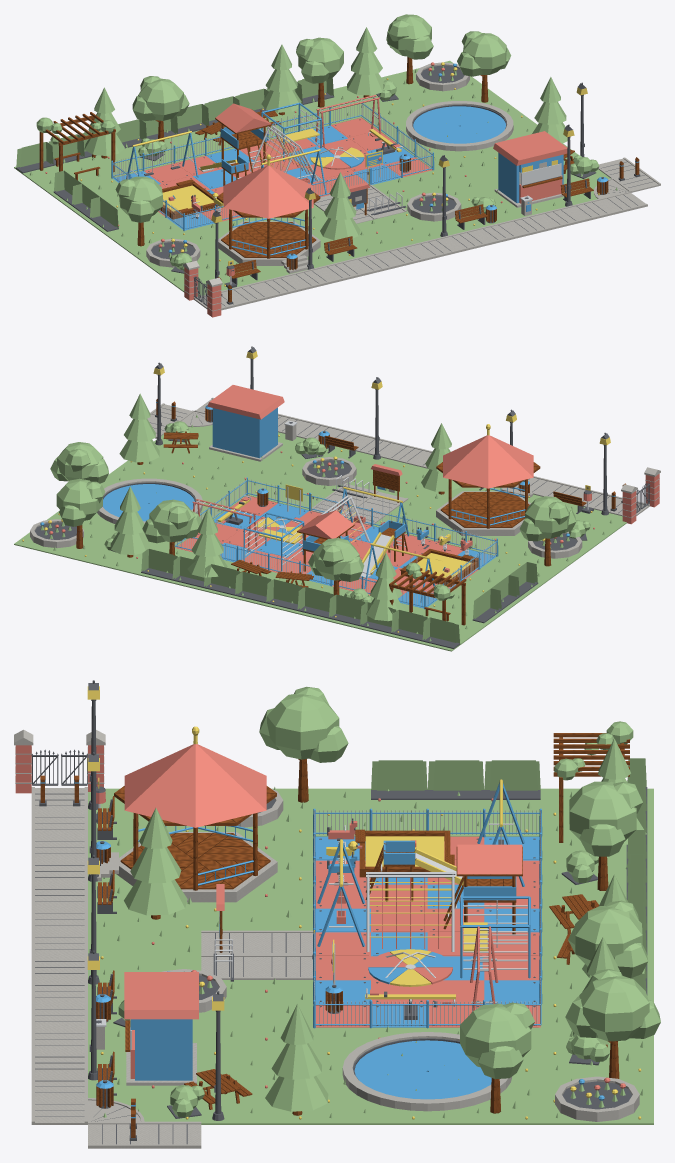
The model's file is 33690-Riverside-Park-and-Playground-City-Park-and-Playground.glb.
3 views of the same model, one above another, from view 1: azimuth 30°, elevation 25°; view 2: azimuth 150°, elevation 25°; view 3: azimuth 270°, elevation 25° (orthographic). The views are drawn at different scales.
Parts seen in each view (by area): view 1: 142-park-bandstand/park-bandstand-poppy, 142-park-bandstand/park-bandstand-timber, 143-park-kiosk/park-kiosk-poppy, 012-park-lawn-tile/park-lawn-tile-grass, 151-park-tree-broadleaf/park-tree-broadleaf-grass, 154-park-tree-broadleaf/park-tree-broadleaf-grass, 152-park-tree-broadleaf/park-tree-broadleaf-grass, 153-park-tree-broadleaf/park-tree-broadleaf-grass, 155-park-tree-broadleaf/park-tree-broadleaf-grass, 019-park-lawn-tile/park-lawn-tile-grass, 014-park-lawn-tile/park-lawn-tile-grass, 159-park-tree-conifer/park-tree-conifer-grass (+71 smaller); view 2: 142-park-bandstand/park-bandstand-poppy, 142-park-bandstand/park-bandstand-timber, 143-park-kiosk/park-kiosk-azure, 019-park-lawn-tile/park-lawn-tile-grass, 152-park-tree-broadleaf/park-tree-broadleaf-grass, 155-park-tree-broadleaf/park-tree-broadleaf-grass, 151-park-tree-broadleaf/park-tree-broadleaf-grass, 154-park-tree-broadleaf/park-tree-broadleaf-grass, 153-park-tree-broadleaf/park-tree-broadleaf-grass, 024-park-lawn-tile/park-lawn-tile-grass, 143-park-kiosk/park-kiosk-poppy, 160-park-tree-conifer/park-tree-conifer-grass (+58 smaller); view 3: 142-park-bandstand/park-bandstand-poppy, 142-park-bandstand/park-bandstand-timber, 153-park-tree-broadleaf/park-tree-broadleaf-grass, 155-park-tree-broadleaf/park-tree-broadleaf-grass, 154-park-tree-broadleaf/park-tree-broadleaf-grass, 012-park-lawn-tile/park-lawn-tile-grass, 151-park-tree-broadleaf/park-tree-broadleaf-grass, 014-park-lawn-tile/park-lawn-tile-grass, 009-park-lawn-tile/park-lawn-tile-grass, 002-park-lawn-tile/park-lawn-tile-grass, 159-park-tree-conifer/park-tree-conifer-grass, 160-park-tree-conifer/park-tree-conifer-grass (+113 smaller).
Boxes of the visible parts, left/top/right/bottom form: 142-park-bandstand/park-bandstand-poppy: left=223, top=165, right=313, bottom=218; 142-park-bandstand/park-bandstand-timber: left=217, top=192, right=320, bottom=258; 143-park-kiosk/park-kiosk-poppy: left=493, top=131, right=567, bottom=203; 012-park-lawn-tile/park-lawn-tile-grass: left=357, top=211, right=441, bottom=252; 151-park-tree-broadleaf/park-tree-broadleaf-grass: left=132, top=76, right=189, bottom=121; 154-park-tree-broadleaf/park-tree-broadleaf-grass: left=457, top=31, right=511, bottom=76; 152-park-tree-broadleaf/park-tree-broadleaf-grass: left=296, top=37, right=343, bottom=83; 153-park-tree-broadleaf/park-tree-broadleaf-grass: left=386, top=14, right=433, bottom=59; 155-park-tree-broadleaf/park-tree-broadleaf-grass: left=115, top=176, right=162, bottom=222; 019-park-lawn-tile/park-lawn-tile-grass: left=434, top=155, right=498, bottom=196; 014-park-lawn-tile/park-lawn-tile-grass: left=372, top=170, right=468, bottom=211; 159-park-tree-conifer/park-tree-conifer-grass: left=320, top=172, right=360, bottom=240; 142-park-bandstand/park-bandstand-poppy: left=443, top=435, right=533, bottom=488; 142-park-bandstand/park-bandstand-timber: left=436, top=462, right=540, bottom=528; 143-park-kiosk/park-kiosk-azure: left=212, top=407, right=277, bottom=458; 019-park-lawn-tile/park-lawn-tile-grass: left=185, top=453, right=282, bottom=494; 152-park-tree-broadleaf/park-tree-broadleaf-grass: left=142, top=499, right=201, bottom=543; 155-park-tree-broadleaf/park-tree-broadleaf-grass: left=519, top=496, right=576, bottom=541; 151-park-tree-broadleaf/park-tree-broadleaf-grass: left=308, top=538, right=364, bottom=581; 154-park-tree-broadleaf/park-tree-broadleaf-grass: left=50, top=442, right=108, bottom=483; 153-park-tree-broadleaf/park-tree-broadleaf-grass: left=56, top=478, right=105, bottom=526; 024-park-lawn-tile/park-lawn-tile-grass: left=123, top=439, right=220, bottom=479; 143-park-kiosk/park-kiosk-poppy: left=207, top=385, right=284, bottom=419; 160-park-tree-conifer/park-tree-conifer-grass: left=119, top=393, right=159, bottom=462; 142-park-bandstand/park-bandstand-poppy: left=124, top=744, right=266, bottom=827; 142-park-bandstand/park-bandstand-timber: left=114, top=786, right=276, bottom=890; 153-park-tree-broadleaf/park-tree-broadleaf-grass: left=565, top=969, right=660, bottom=1041; 155-park-tree-broadleaf/park-tree-broadleaf-grass: left=259, top=686, right=348, bottom=762; 154-park-tree-broadleaf/park-tree-broadleaf-grass: left=460, top=1002, right=534, bottom=1079; 012-park-lawn-tile/park-lawn-tile-grass: left=88, top=930, right=201, bottom=979; 151-park-tree-broadleaf/park-tree-broadleaf-grass: left=569, top=781, right=642, bottom=856; 014-park-lawn-tile/park-lawn-tile-grass: left=201, top=978, right=313, bottom=1027; 009-park-lawn-tile/park-lawn-tile-grass: left=201, top=882, right=313, bottom=930; 002-park-lawn-tile/park-lawn-tile-grass: left=314, top=788, right=427, bottom=836; 159-park-tree-conifer/park-tree-conifer-grass: left=124, top=808, right=187, bottom=915; 160-park-tree-conifer/park-tree-conifer-grass: left=265, top=1003, right=328, bottom=1111.
Bounding box in the file's own units: 30.42 × 5.74 × 22.87.
8 materials, 2 textured.
